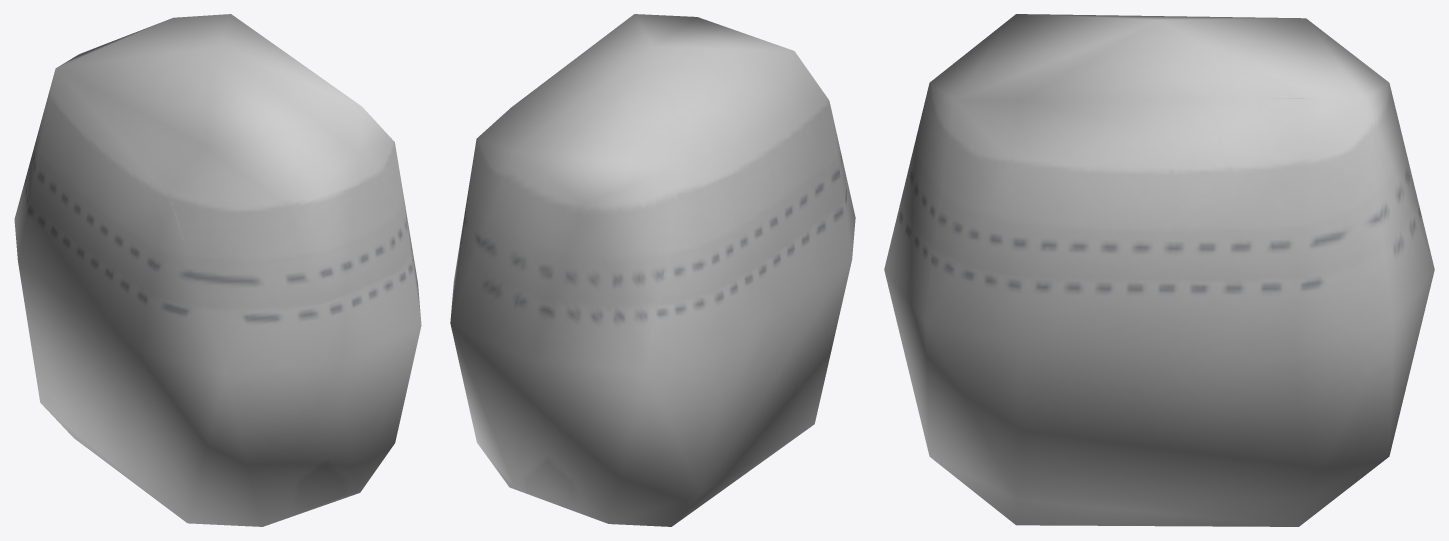
File: LeftHand_C2.fbx
3 renders of one model, left to right at view 1: azimuth 30°, elevation 25°; view 2: azimuth 150°, elevation 25°; view 3: azimuth 270°, elevation 25°, orthographic. The views are drawn at different scales.
Parts seen in each view (by area): view 1: Civ_CorreaPerro_LeftHand_C2; view 2: Civ_CorreaPerro_LeftHand_C2; view 3: Civ_CorreaPerro_LeftHand_C2.
Boxes of the visible parts, box(x1,y1,x2,y2) form: Civ_CorreaPerro_LeftHand_C2: box(14, 14, 421, 526); Civ_CorreaPerro_LeftHand_C2: box(450, 14, 855, 526); Civ_CorreaPerro_LeftHand_C2: box(884, 14, 1434, 526).
Size of the model in its own units: 0.2772 by 0.4286 by 0.4286.
